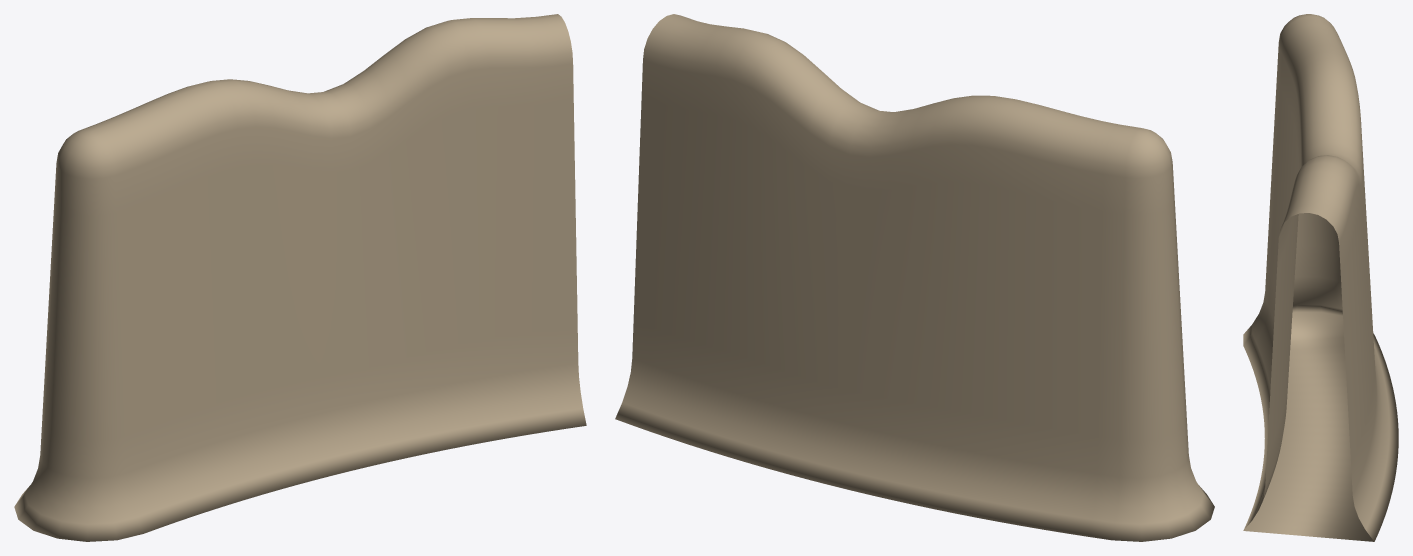
The model's file is KFB_Wall_curved_ring_r3_capB.r3.glb.
3 renders of one model, left to right at view 1: azimuth 30°, elevation 25°; view 2: azimuth 150°, elevation 25°; view 3: azimuth 270°, elevation 25°, orthographic. The views are drawn at different scales.
Parts seen in each view (by area): view 1: KFB_Wall_curved_ring_r3_capB; view 2: KFB_Wall_curved_ring_r3_capB; view 3: KFB_Wall_curved_ring_r3_capB.
Part boxes in pixels (x1,y1,x2,y2): KFB_Wall_curved_ring_r3_capB: (14, 14, 586, 541); KFB_Wall_curved_ring_r3_capB: (615, 14, 1214, 541); KFB_Wall_curved_ring_r3_capB: (1243, 14, 1398, 541).
Size of the model in its own units: 5.48 by 3.71 by 1.57.
